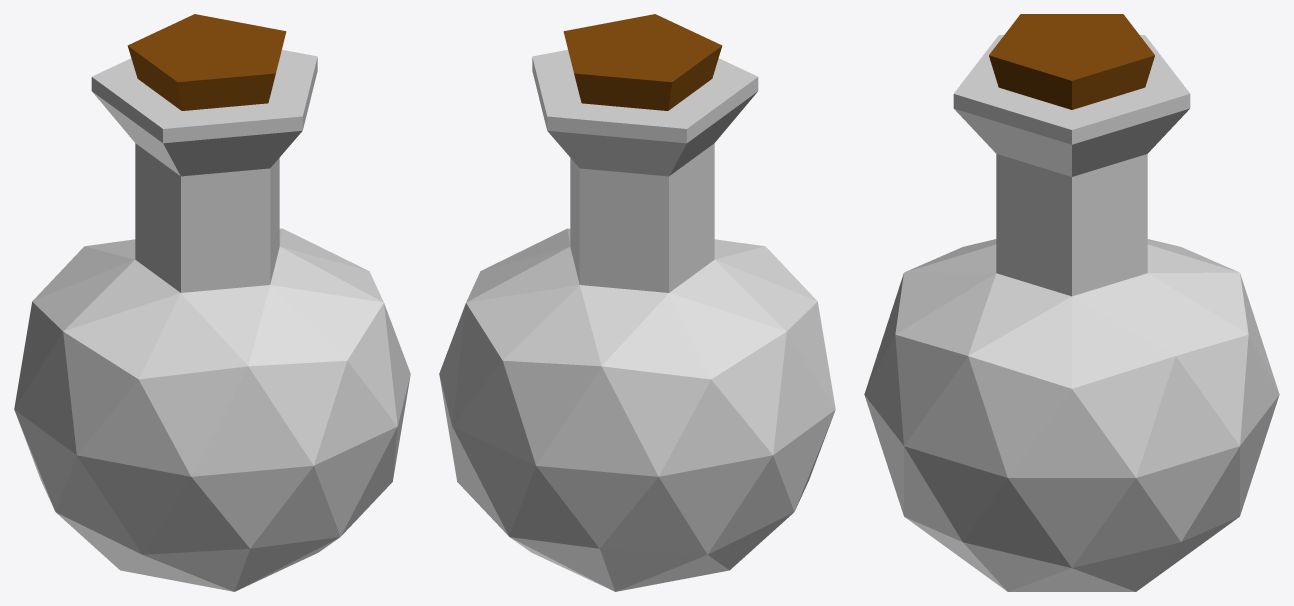
The model's file is Potion.fbx.
3 renders of one model, left to right at view 1: azimuth 30°, elevation 25°; view 2: azimuth 150°, elevation 25°; view 3: azimuth 270°, elevation 25°, orthographic. The views are drawn at different scales.
Visible parts, largest first — view 1: Potion Bottle; view 2: Potion Bottle; view 3: Potion Bottle.
Part boxes in pixels (<box>): Potion Bottle: <box>14,14,410,591</box>; Potion Bottle: <box>439,14,835,591</box>; Potion Bottle: <box>864,14,1279,591</box>.
Size of the model in its own units: 43.42 by 65.36 by 45.65.
